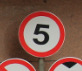speed_limit_5: (18, 11, 65, 57)
